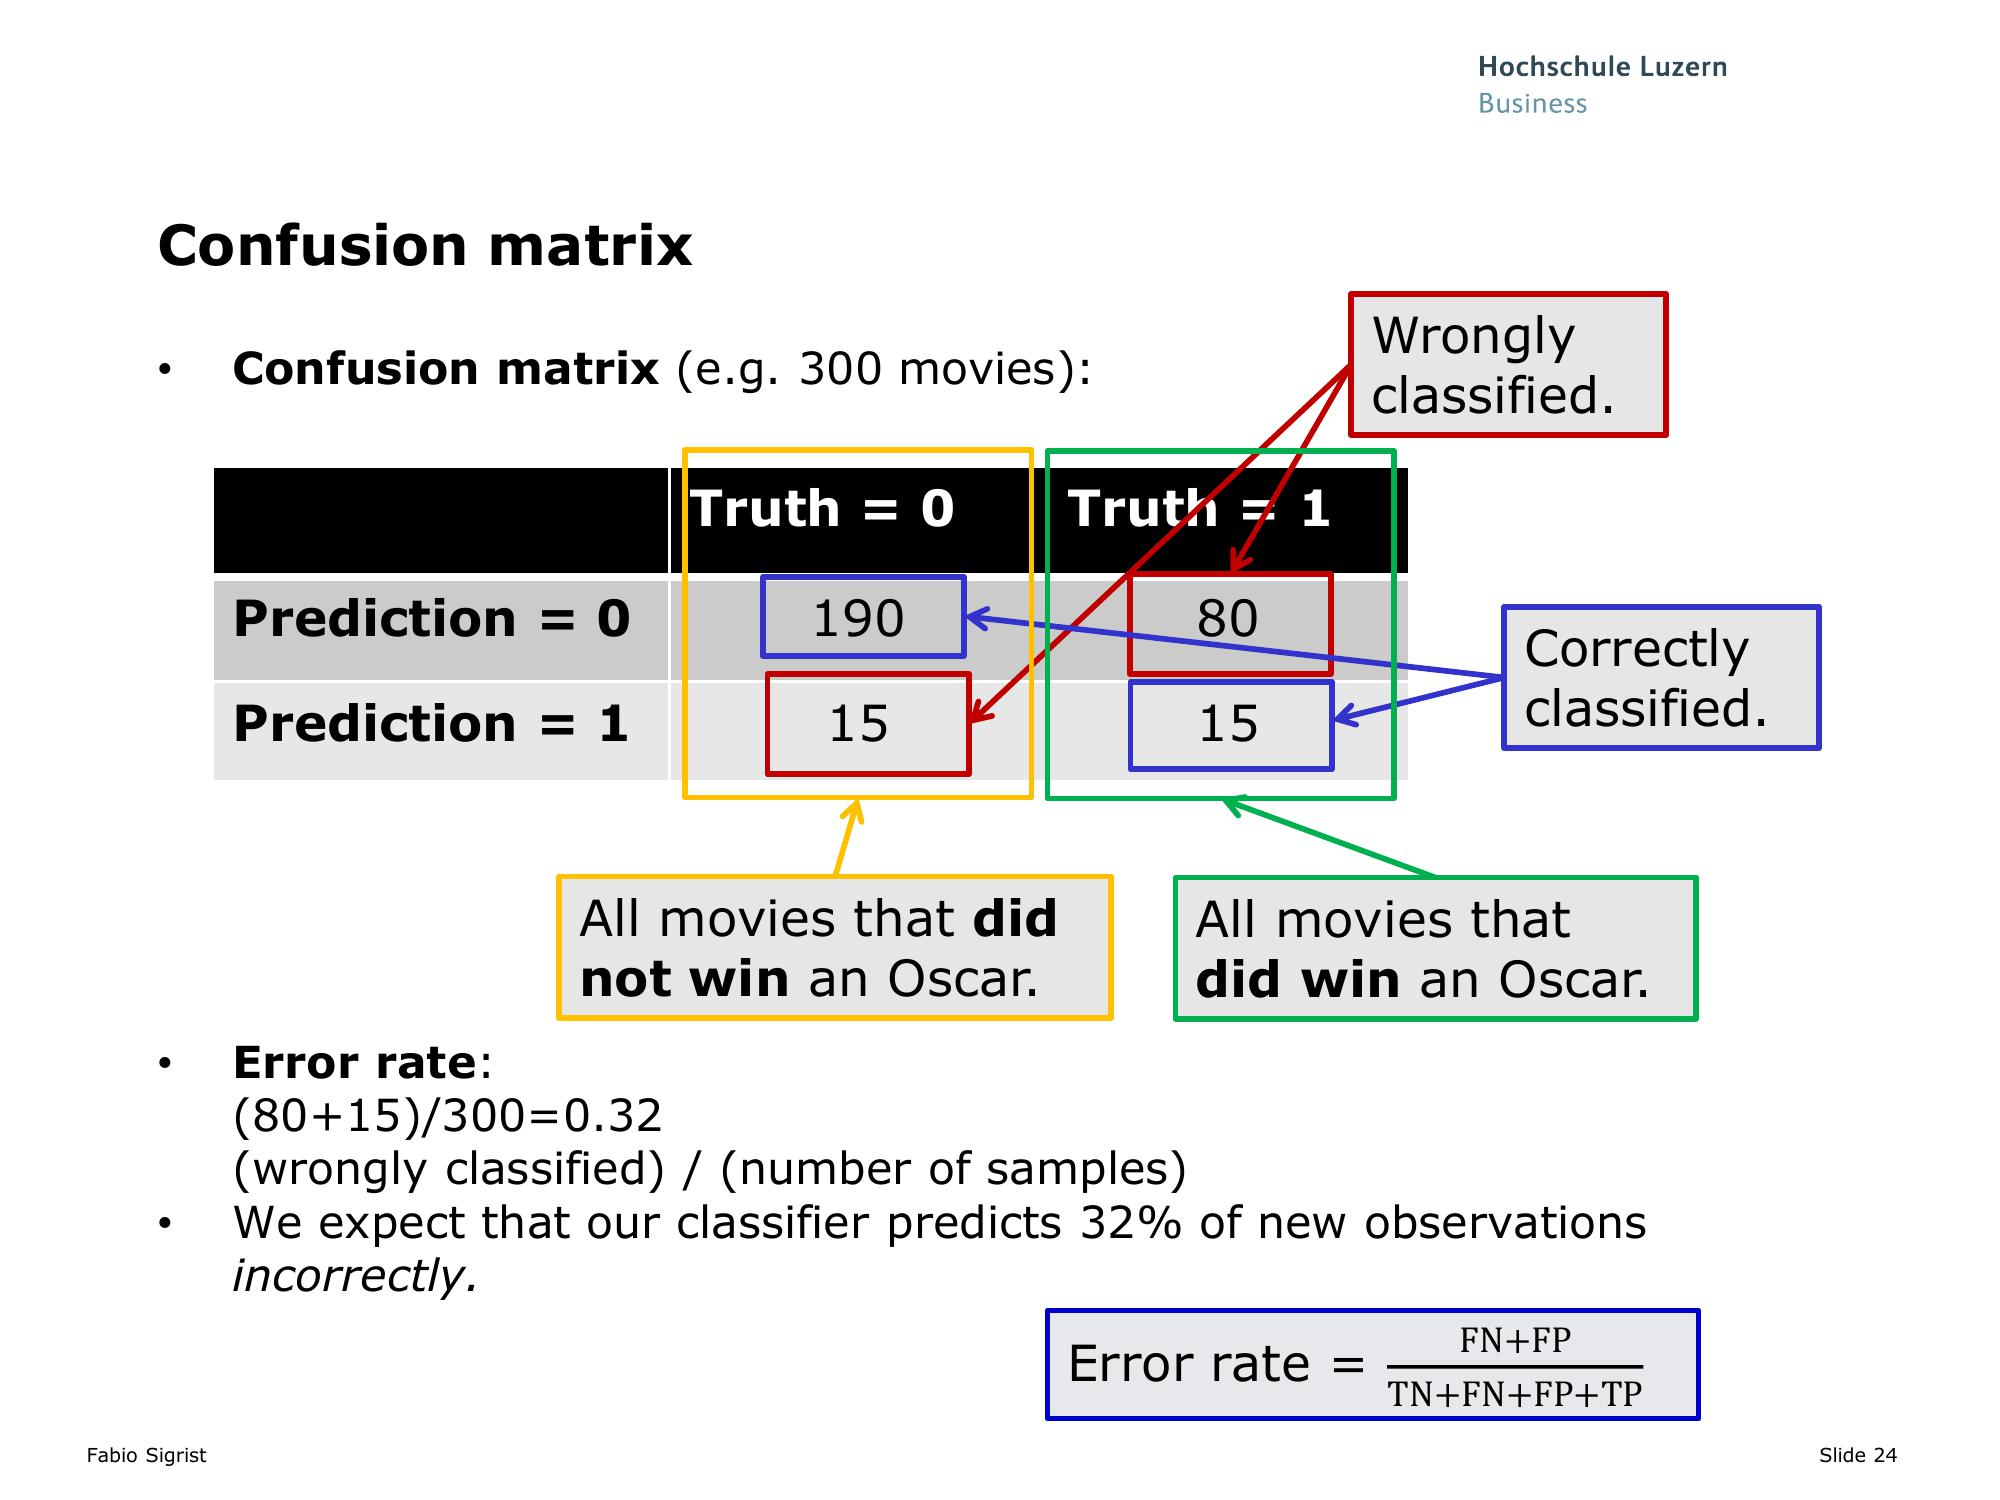Title: (143, 211, 729, 284)
